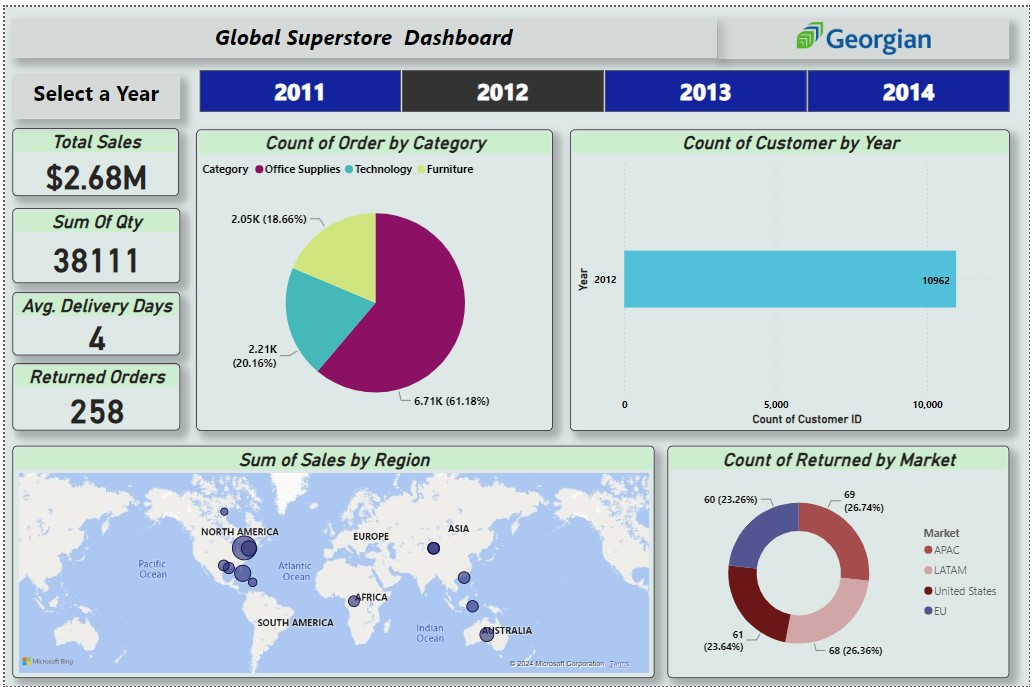

The dashboard page shown, as its layout file describes it:
{"tool":"powerbi","page":{"name":"Global Superstore","canvas":[1280,850],"ordinal":0},"visuals":[{"type":"textbox","box":[8.5,14.2,881.3,49.8],"z":0},{"type":"image","box":[890.4,14.4,365.1,50.5],"z":1000},{"type":"clusteredBarChart","title":"Count of Customer by Year","fields":{"Category":["Orders.Order Date.Variation.Date Hierarchy.Year","Orders.Order Date.Variation.Date Hierarchy.Quarter","Orders.Order Date.Variation.Date Hierarchy.Month","Orders.Order Date.Variation.Date Hierarchy.Day"],"Y":["CountNonNull(Orders.Customer ID)"]},"box":[705.7,153,549.8,376.7],"z":2000},{"type":"slicer","fields":{"Values":["Orders.Order Date.Variation.Date Hierarchy.Year"]},"box":[217.9,72.2,1062.1,66.4],"z":3000},{"type":"card","title":"Total Sales","fields":{"Values":["Sum(Orders.Sales)"]},"box":[10.1,151.5,207.8,85.1],"z":4000},{"type":"card","title":"Sum Of Qty","fields":{"Values":["Sum(Orders.Quantity)"]},"box":[10.1,251.1,209.3,93.8],"z":5000},{"type":"card","title":"Avg. Delivery Days","fields":{"Values":["Avg(Orders.Delivery Days)"]},"box":[10.1,356.5,209.3,79.4],"z":6000},{"type":"card","title":"Returned Orders","fields":{"Values":["CountNonNull(Returns.Returned)"]},"box":[10.1,445.9,209.3,83.7],"z":7000},{"type":"textbox","box":[8.7,83.7,209.3,54.8],"z":8000},{"type":"map","fields":{"Size":["Sum(Orders.Sales)"],"Category":["Orders.Region"]},"box":[10.1,548.4,802.4,290.1],"z":9000},{"type":"pieChart","title":"Count of Order by Category","fields":{"Category":["Orders.Category"],"Y":["CountNonNull(Orders.Order ID)"]},"box":[239.6,153,445.9,376.7],"z":10000},{"type":"donutChart","fields":{"Category":["Returns.Market"],"Y":["CountNonNull(Returns.Returned)"]},"box":[828.4,548.4,427.2,290.1],"z":10001}]}

Visuals, with their boxes in screenshot pixels (x1, y1, x2, y2), scaled from the page's 1280x850 canvas onto the 1032x687 screenshot:
textbox: [7, 11, 717, 52]
image: [718, 12, 1012, 52]
"Count of Customer by Year" clusteredBarChart: [569, 124, 1012, 428]
slicer - Orders.Order Date.Variation.Date Hierarchy.Year: [176, 58, 1031, 112]
"Total Sales" card: [8, 122, 176, 191]
"Sum Of Qty" card: [8, 203, 177, 279]
"Avg. Delivery Days" card: [8, 288, 177, 352]
"Returned Orders" card: [8, 360, 177, 428]
textbox: [7, 68, 176, 112]
map - Sum(Orders.Sales) x Orders.Region: [8, 443, 655, 678]
"Count of Order by Category" pieChart: [193, 124, 553, 428]
donutChart - Returns.Market x CountNonNull(Returns.Returned): [668, 443, 1012, 678]
